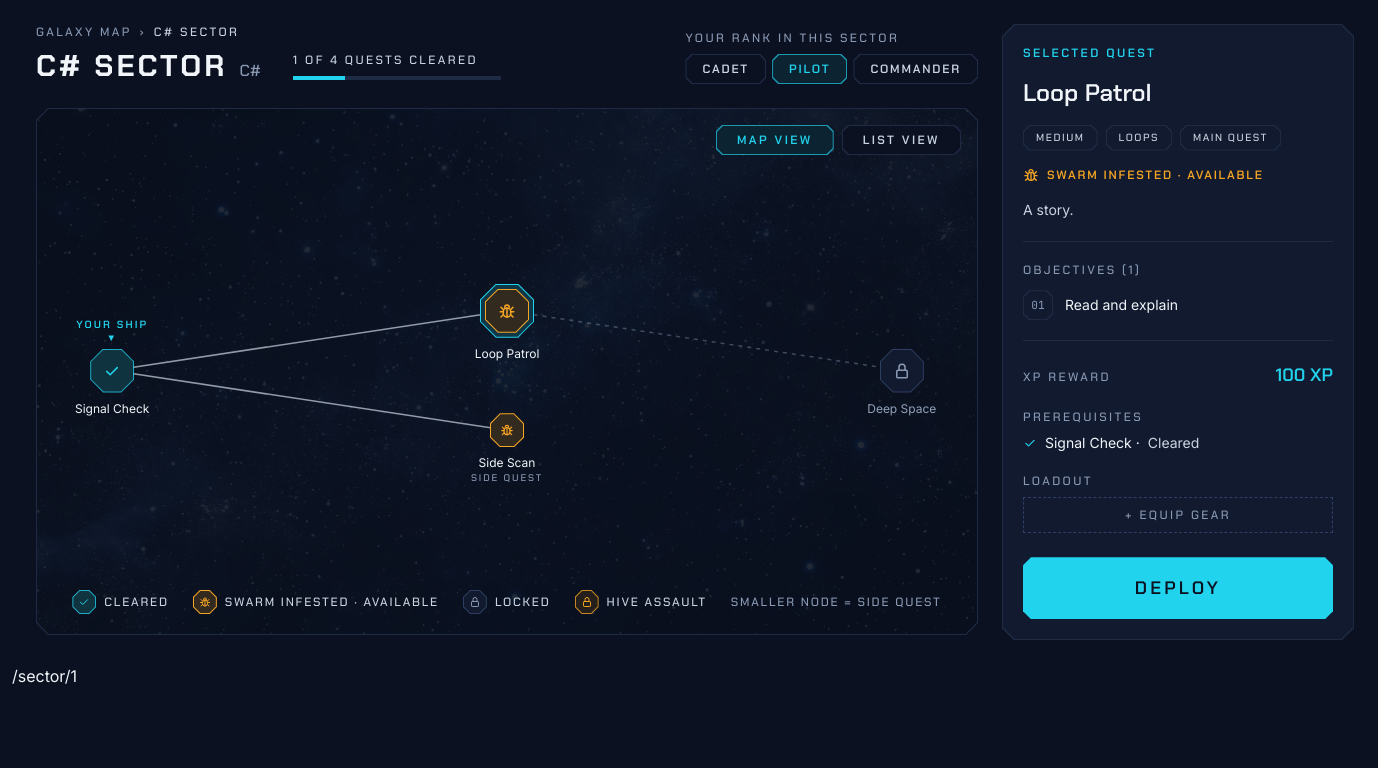
SectorPage › lists the quests in map order and selects from the list too
The width and height of the screenshot is (1378, 768).
Expected: the heading "C# SectorC#" is shown, [36,48,261,84]
Click the button "List view" at (901, 140), box [842,125,961,155]
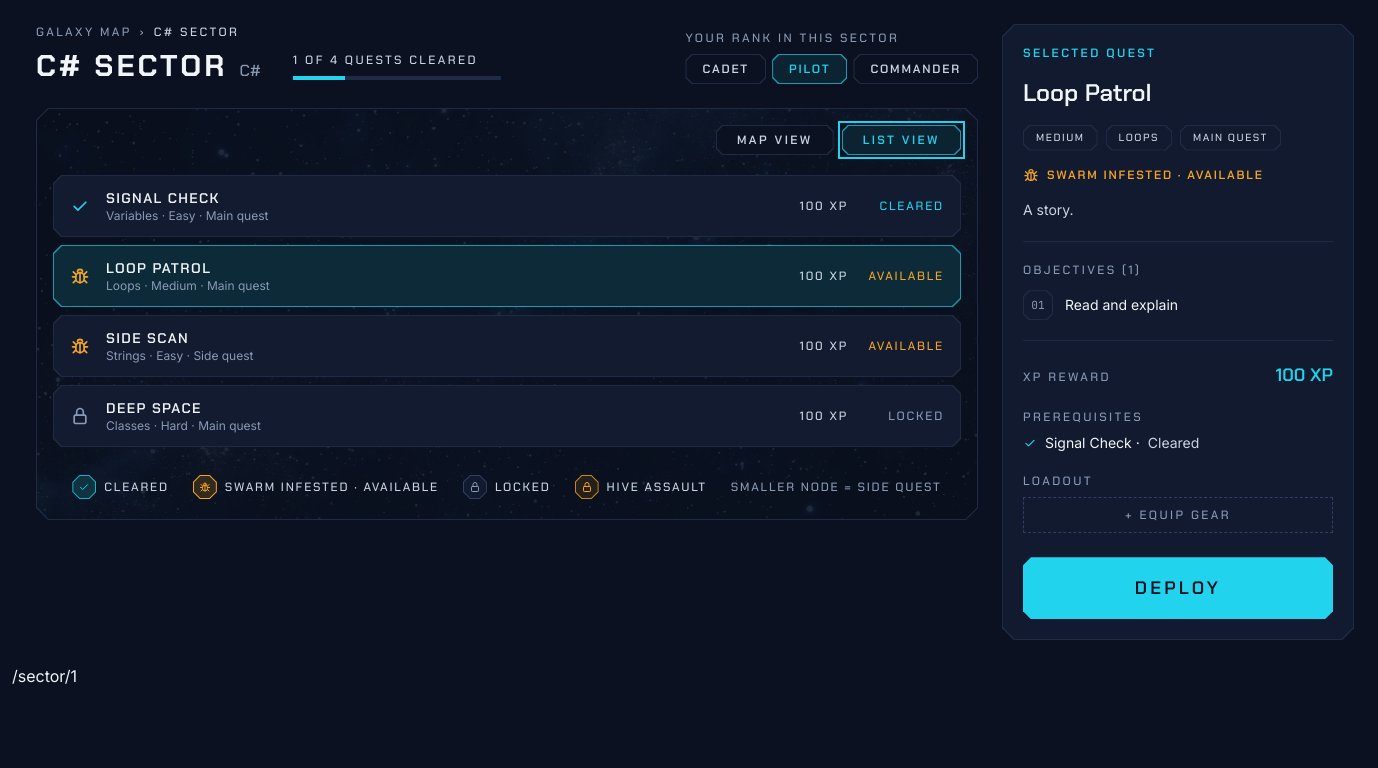
Now the button "Side Scan Strings · Easy · Side quest 100 XP Available" is shown
Click the button "Side Scan Strings · Easy · Side quest 100 XP Available" at (507, 346), box [53,315,961,377]
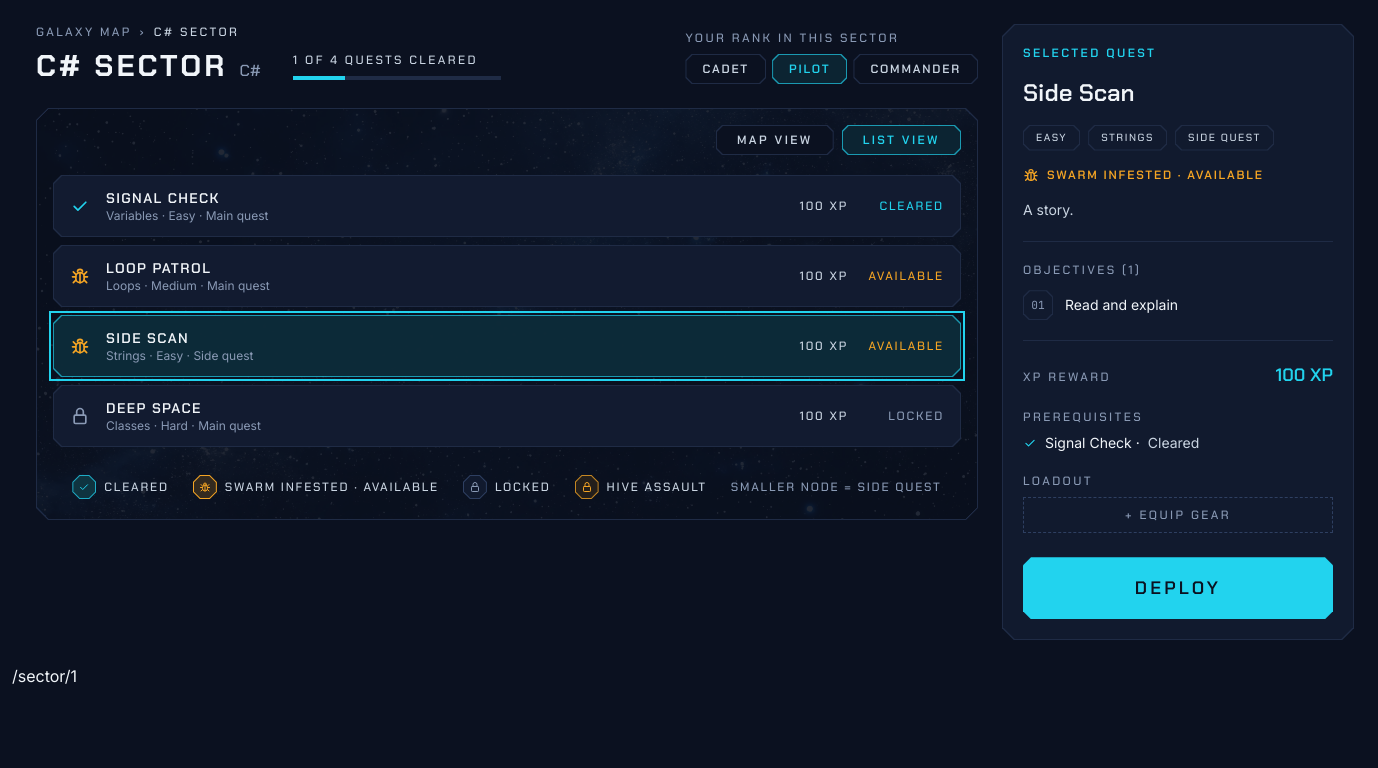
Now the heading "Side Scan" is shown, box [1023,77,1135,108]
